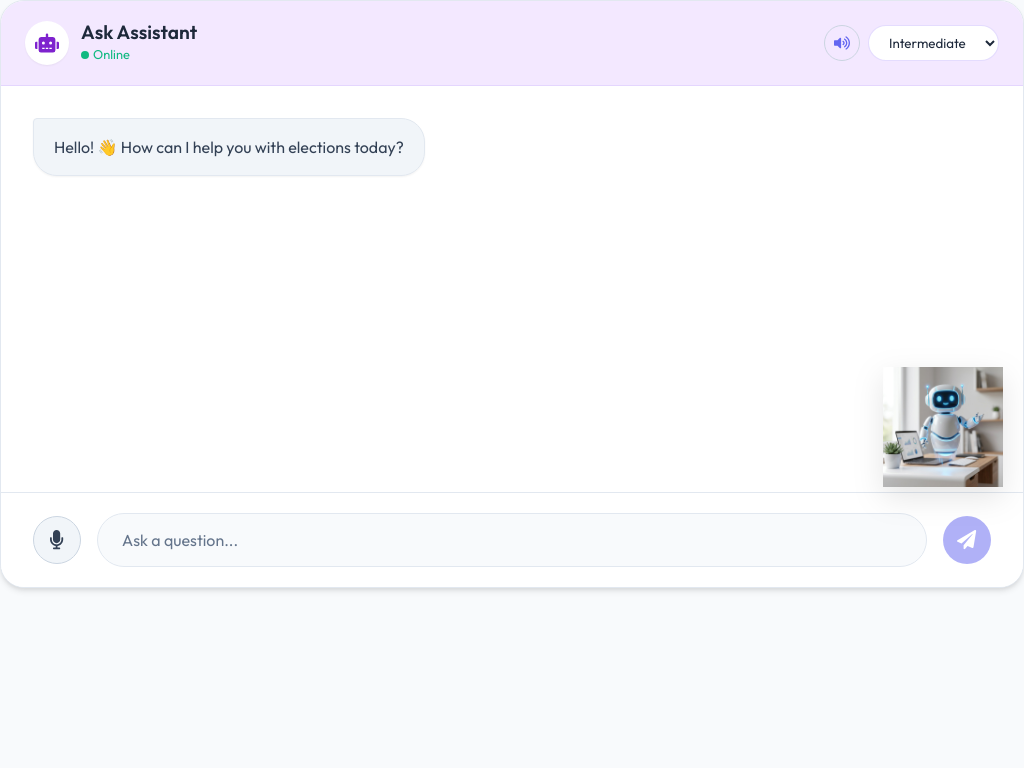
Chatbot Component › toggles voice output when mute/unmute button is clicked
Click the button named "Mute voice": (842, 43) [824,25,860,61]
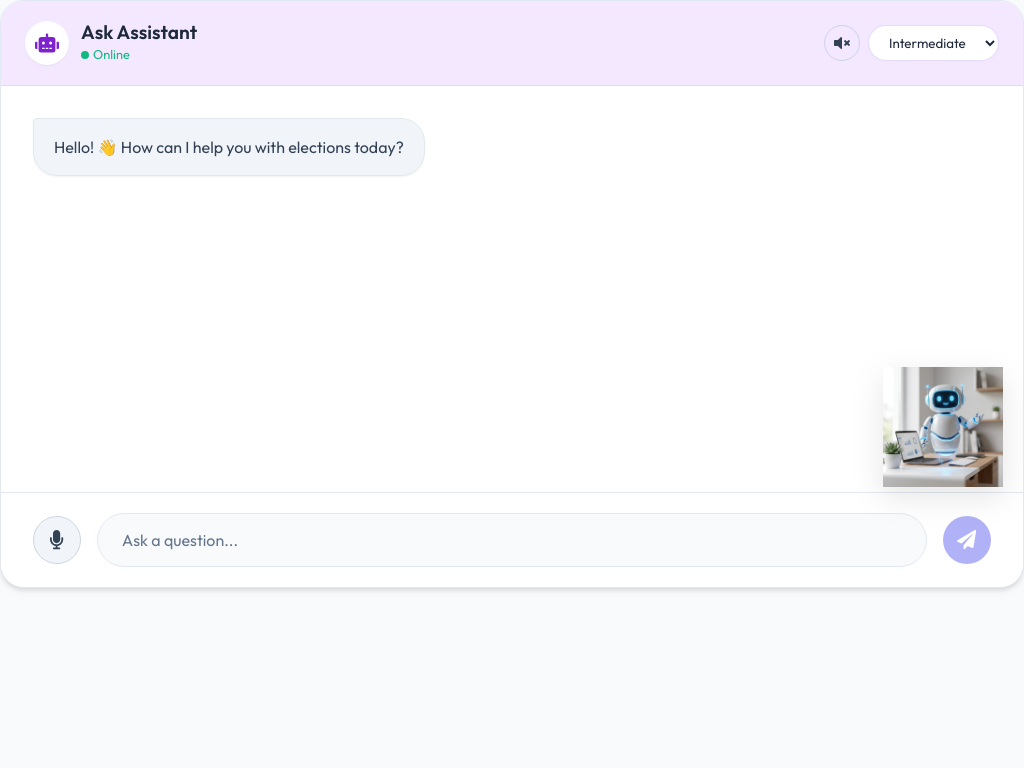
Now the button named "Unmute voice" is shown, box [824,25,860,61]
